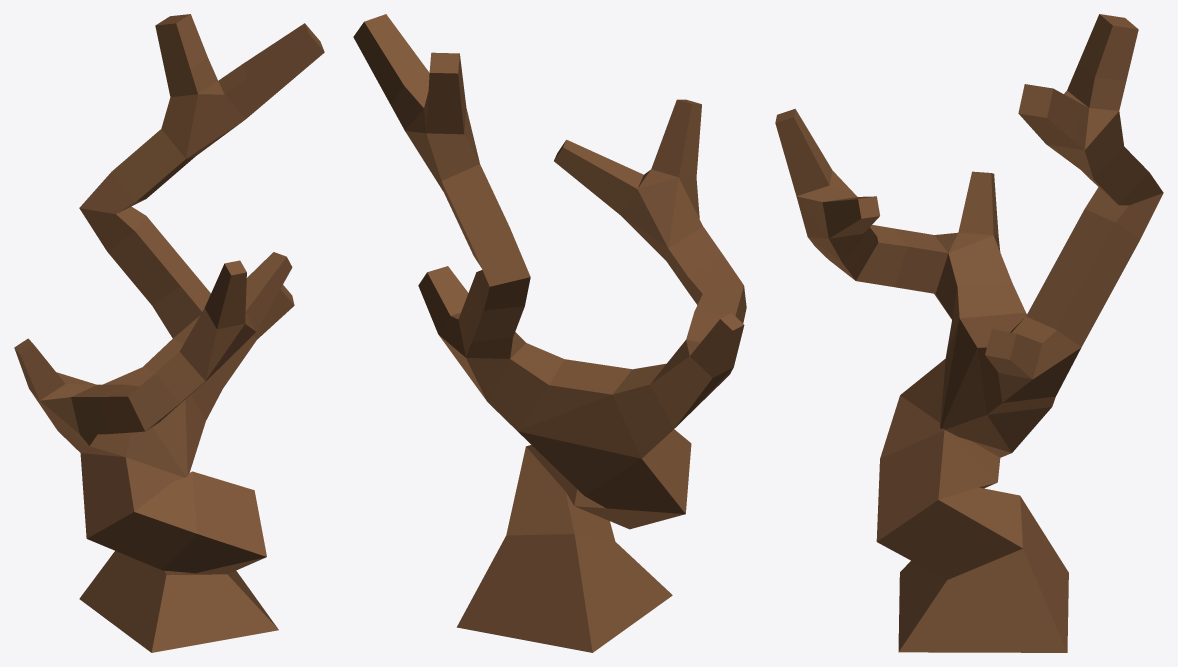
File: Mesa_Tree_BIg_Fluff_Naked.fbx
The picture shows the model from 3 angles, left to right: view 1: azimuth 30°, elevation 25°; view 2: azimuth 150°, elevation 25°; view 3: azimuth 270°, elevation 25°; orthographic projection. The views are drawn at different scales.
Parts seen in each view (by area): view 1: Cube.014; view 2: Cube.014; view 3: Cube.014.
Part boxes in pixels (left/top/right/bottom): Cube.014: left=14, top=14, right=324, bottom=652; Cube.014: left=353, top=14, right=746, bottom=652; Cube.014: left=775, top=14, right=1163, bottom=652.
Bounding box in the file's own units: 739 × 1165 × 651.
